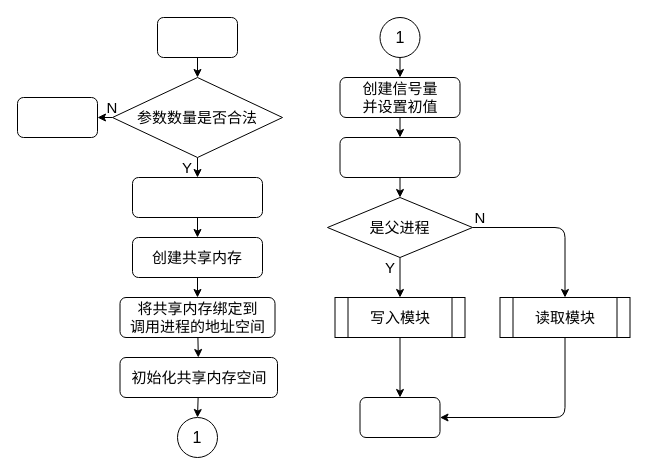
This 648x475 diagram has some shape labels left out. Here are the shapes that lost their labels. From the top down, the centre of each, then its label:
[197,37]: main
[57,117]: 异常退出
[399,157]: 创建子进程
[197,197]: 根据参数设置 源/目的文件路径
[399,417]: 结束
